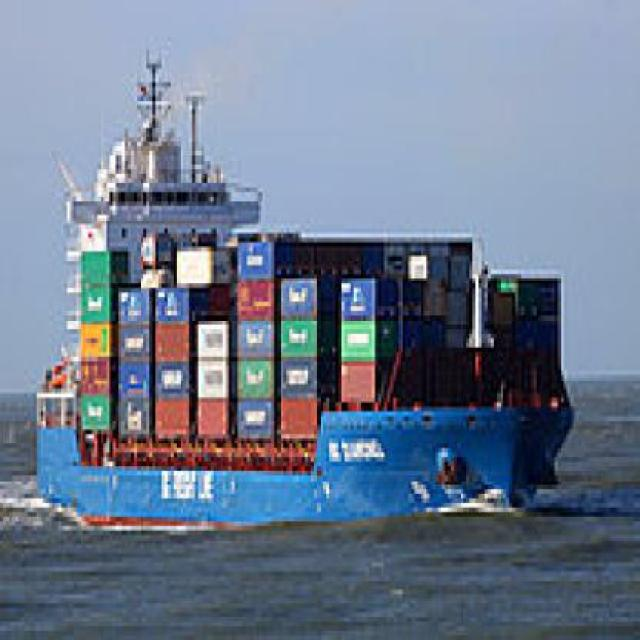container: (25, 28, 586, 540)
